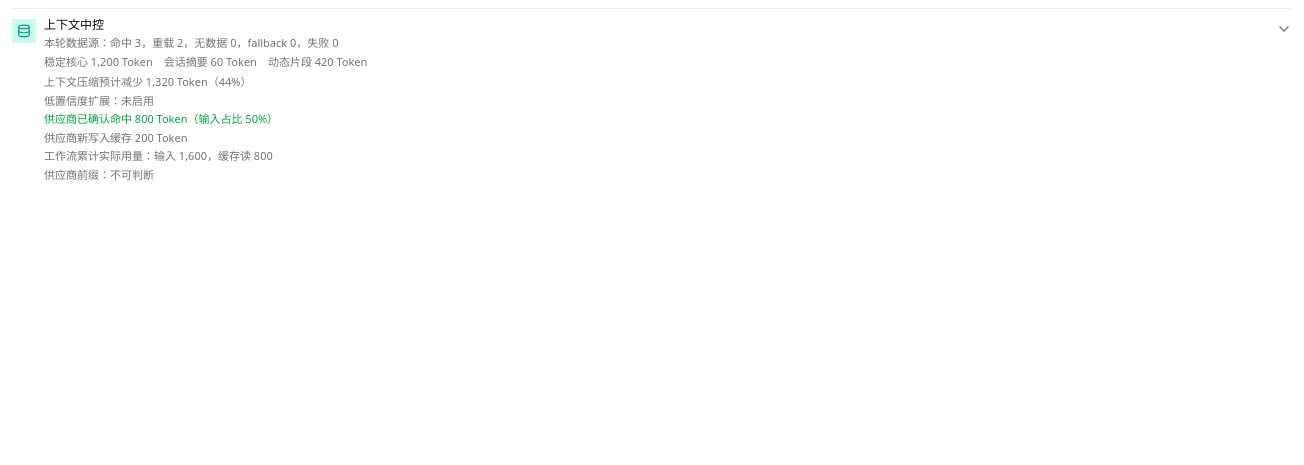
Test case: ContextHubDetails › loads the persisted snapshot and shows cache items plus all composed sections
Expected: the text "稳定核心正文" is not shown
What coordinates should you click on to do the following:
click the button with aria-label "展开上下文中控"
I would click on:
 (652, 100)
Its box is [12,17,1292,183].
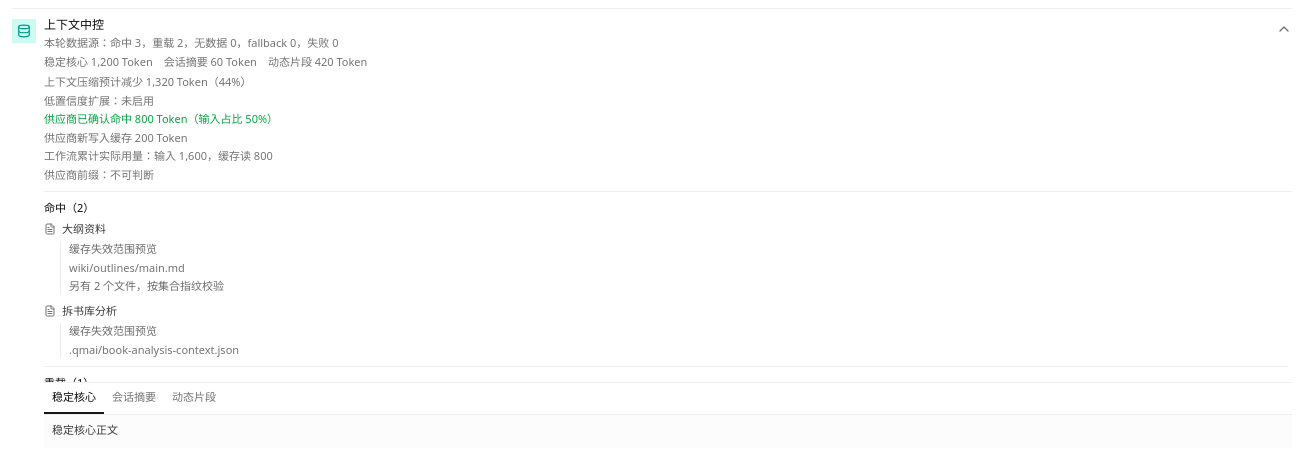
Now the text "大纲资料" is shown, box [62,220,106,237]
Now the text "拆书库分析" is shown, box [62,302,117,319]
Now the text "缓存失效范围预览" is shown, box [69,241,157,256]
What coordinates should you click on to do the following:
click the tab "会话摘要"
I would click on:
 (134, 398)
Its box is [104,383,164,414].
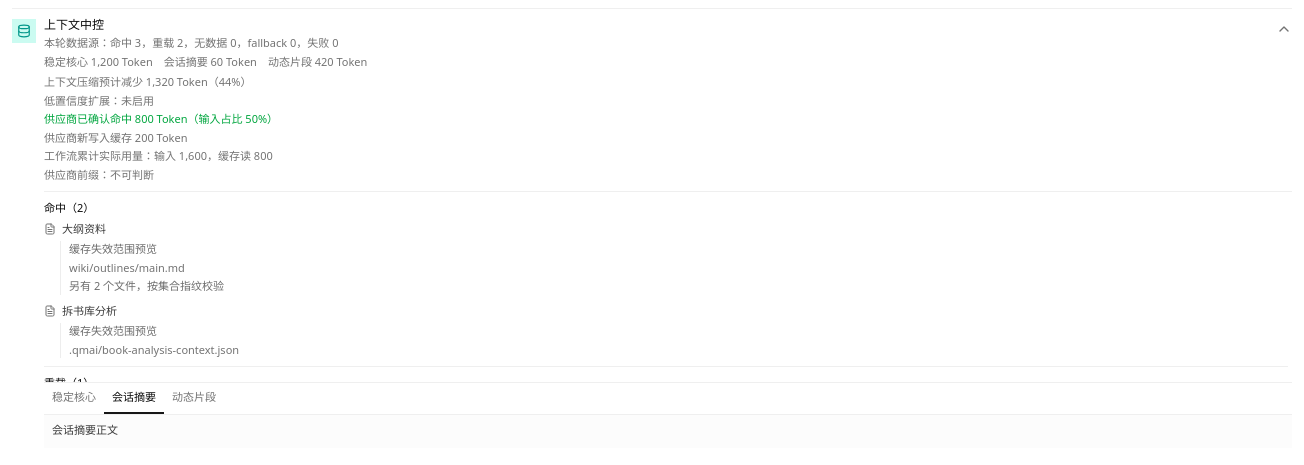
Now the text "会话摘要正文" is shown, box [44,414,1292,448]
What coordinates should you click on to do the following:
click the tab "动态片段"
I would click on:
 (194, 398)
Its box is [164,383,224,414].
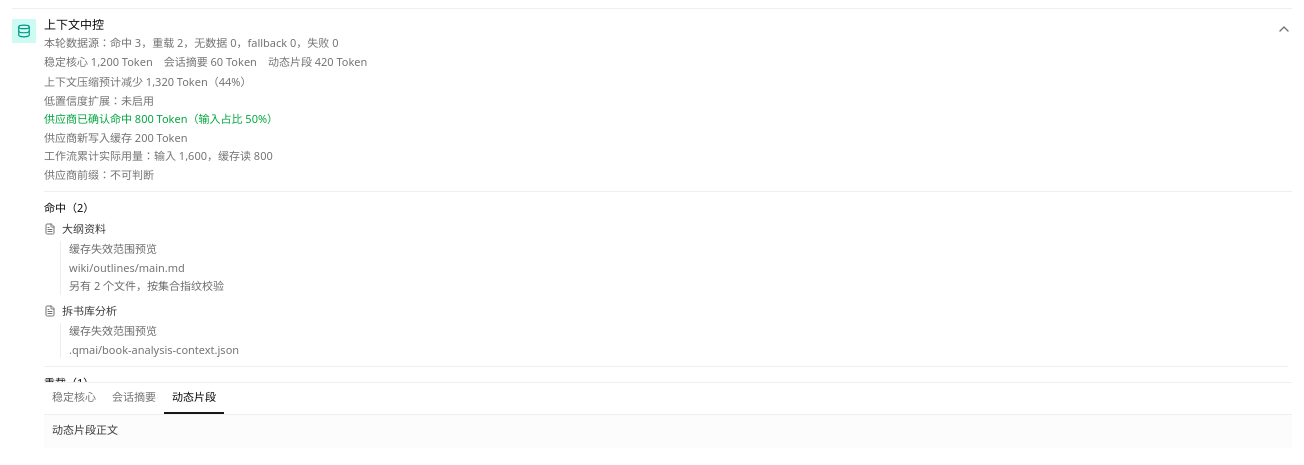
Now the text "动态片段正文" is shown, box [44,414,1292,448]
